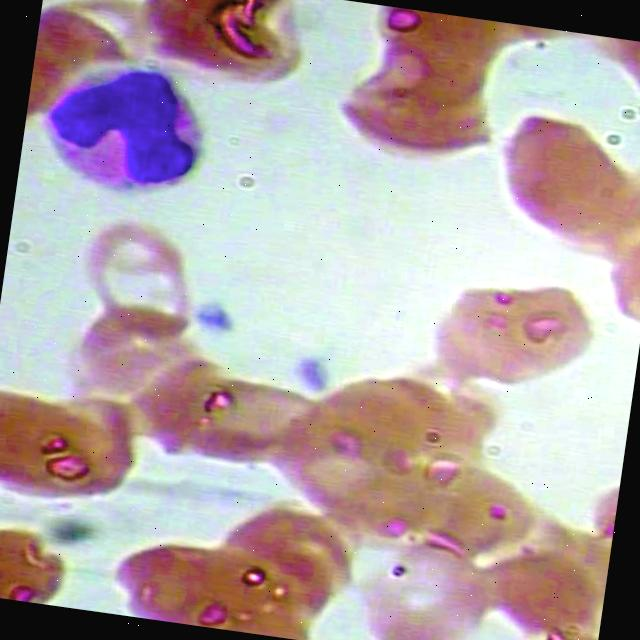Platelets: (183, 288, 245, 343), (280, 342, 342, 397)
RBC: (481, 98, 640, 264), (320, 48, 492, 185), (425, 263, 596, 400), (336, 448, 535, 564), (145, 364, 344, 480), (108, 528, 306, 640), (66, 213, 212, 349), (0, 383, 138, 516), (125, 0, 315, 95), (333, 535, 503, 640), (0, 513, 80, 608)
WBC: (24, 46, 224, 212)
